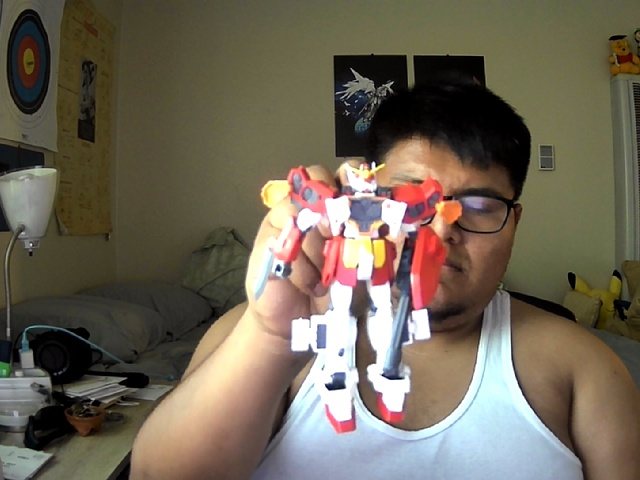Deatharms: (251, 162, 462, 437)
